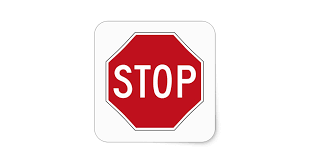Stop: (95, 20, 215, 148)
